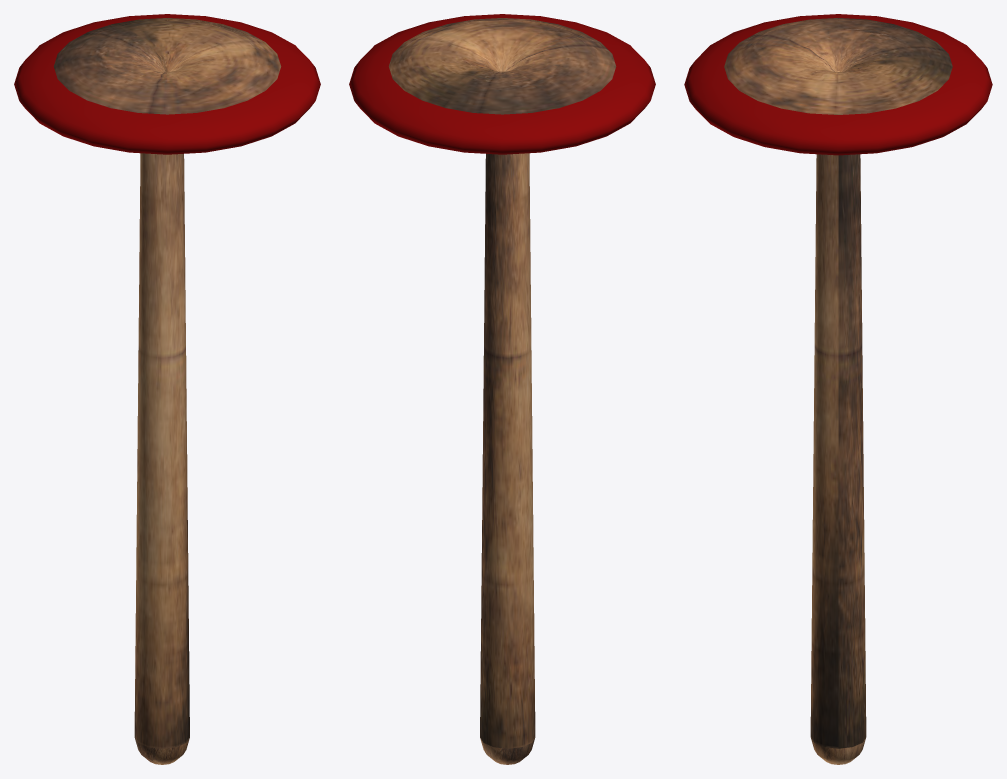
File: new_pemukul_slenthem.FBX
The picture shows the model from 3 angles, left to right: view 1: azimuth 30°, elevation 25°; view 2: azimuth 150°, elevation 25°; view 3: azimuth 270°, elevation 25°; orthographic projection.
Visible parts, largest first — view 1: pemukulSlenthem; view 2: pemukulSlenthem; view 3: pemukulSlenthem.
Part boxes in pixels (x1,y1,x2,y2): pemukulSlenthem: (14, 14, 320, 764); pemukulSlenthem: (349, 14, 655, 764); pemukulSlenthem: (684, 14, 992, 764).
Size of the model in its own units: 5.15 by 13.05 by 5.15.
